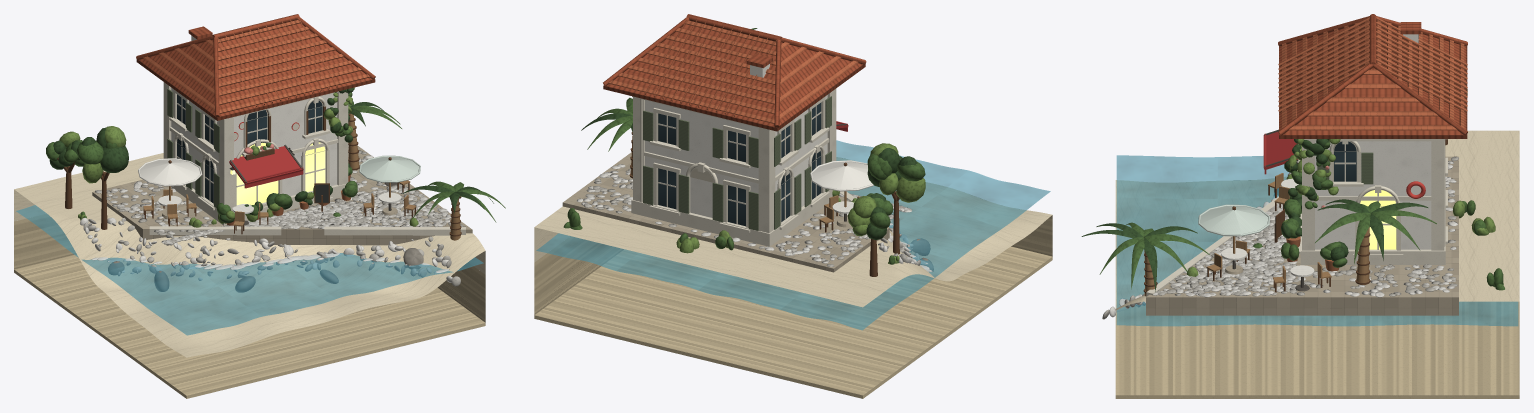
The model's file is beachcoffeeshop.glb.
The picture shows the model from 3 angles, left to right: view 1: azimuth 30°, elevation 25°; view 2: azimuth 150°, elevation 25°; view 3: azimuth 270°, elevation 25°; orthographic projection. The views are drawn at different scales.
Visible parts, largest first — view 1: terrain_surface_m, block_soil_band_m, sea_surface_m, cafe_roof_tiles_m, patio_kerb_m, cafe_roof_tile_course_m, leaf_mass_m (×3), patio_bed_m, cafe_walls_m, parasol_canopy_m (×2), window_glass_m (×2), awning_canvas_m (+5 smaller); view 2: block_soil_band_m, terrain_surface_m, sea_surface_m, cafe_roof_tiles_m, patio_kerb_m, cafe_roof_tile_course_m, leaf_mass_m (×3), patio_bed_m, cafe_walls_m, shutter_m, window_glass_m, parasol_canopy_m (+3 smaller); view 3: block_soil_band_m, terrain_surface_m, sea_surface_m, cafe_roof_tile_course_m, patio_bed_m, cafe_roof_tiles_m, leaf_mass_m (×3), patio_kerb_m, cafe_walls_m, parasol_canopy_m (×2), window_glass_m (×2), cafe_roof_eave_m (+2 smaller).
Boxes of the visible parts, <box> form: terrain_surface_m: <box>14,153,485,357</box>; block_soil_band_m: <box>14,214,485,398</box>; sea_surface_m: <box>16,205,483,335</box>; cafe_roof_tiles_m: <box>136,14,375,117</box>; patio_kerb_m: <box>149,82,465,235</box>; cafe_roof_tile_course_m: <box>143,18,370,113</box>; leaf_mass_m (×3): <box>46,101,505,223</box>; patio_bed_m: <box>92,146,472,245</box>; cafe_walls_m: <box>171,35,337,195</box>; parasol_canopy_m (×2): <box>138,155,420,213</box>; window_glass_m (×2): <box>177,94,325,205</box>; awning_canvas_m: <box>229,146,303,188</box>; block_soil_band_m: <box>534,215,1052,398</box>; terrain_surface_m: <box>534,157,1052,307</box>; sea_surface_m: <box>536,140,1050,330</box>; cafe_roof_tiles_m: <box>603,14,866,127</box>; patio_kerb_m: <box>631,88,854,246</box>; cafe_roof_tile_course_m: <box>609,19,858,123</box>; leaf_mass_m (×3): <box>569,28,925,253</box>; patio_bed_m: <box>562,152,889,272</box>; cafe_walls_m: <box>645,64,827,217</box>; shutter_m: <box>643,96,831,230</box>; window_glass_m: <box>658,102,821,226</box>; parasol_canopy_m: <box>810,160,873,213</box>; block_soil_band_m: <box>1115,301,1519,398</box>; terrain_surface_m: <box>1115,130,1519,312</box>; sea_surface_m: <box>1116,155,1518,326</box>; cafe_roof_tile_course_m: <box>1278,17,1467,130</box>; patio_bed_m: <box>1146,156,1458,315</box>; cafe_roof_tiles_m: <box>1278,14,1467,135</box>; leaf_mass_m (×3): <box>1081,89,1503,291</box>; patio_kerb_m: <box>1146,139,1447,296</box>; cafe_walls_m: <box>1315,34,1431,249</box>; parasol_canopy_m (×2): <box>1198,178,1314,276</box>; window_glass_m (×2): <box>1334,151,1396,249</box>; cafe_roof_eave_m: <box>1279,46,1467,138</box>.
Size of the model in its own units: 17.44 by 12.78 by 17.35.
32 materials, 27 textured.
